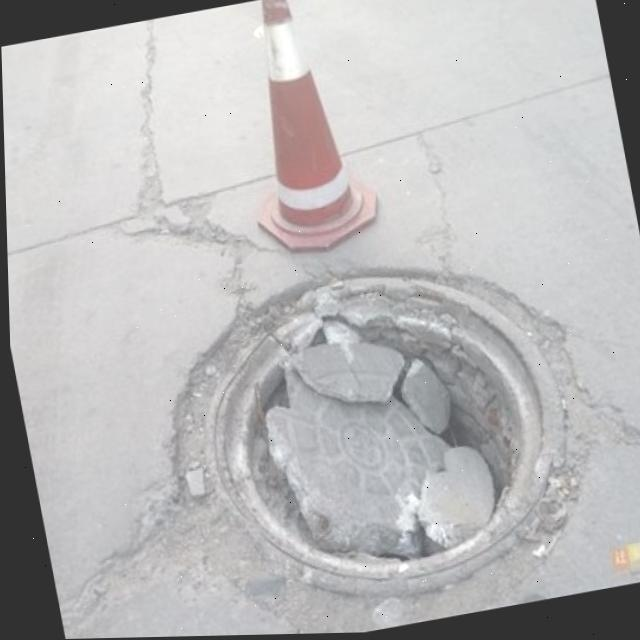manhole: (128, 225, 605, 638)
